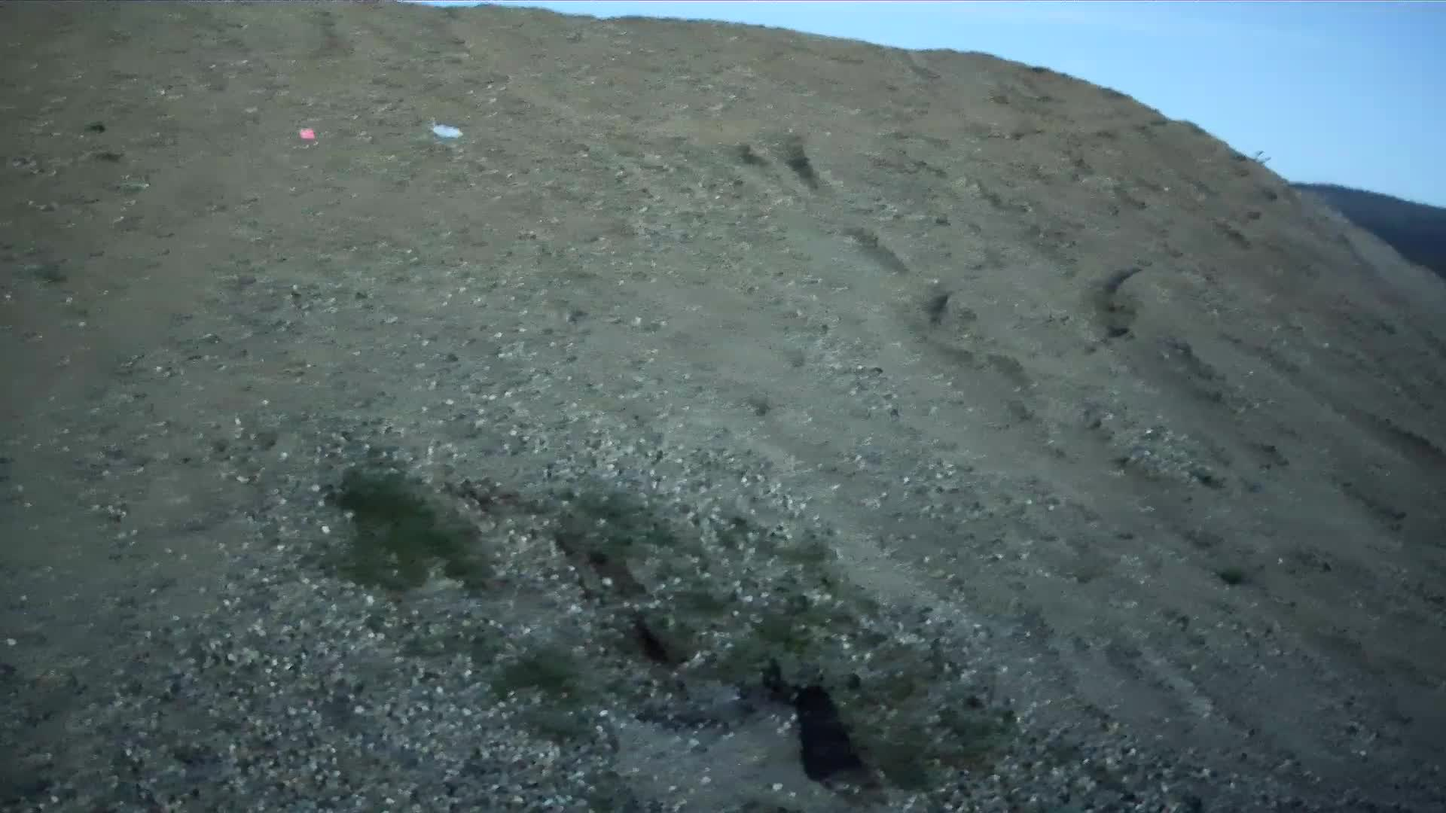Target: (432, 124, 464, 138)
